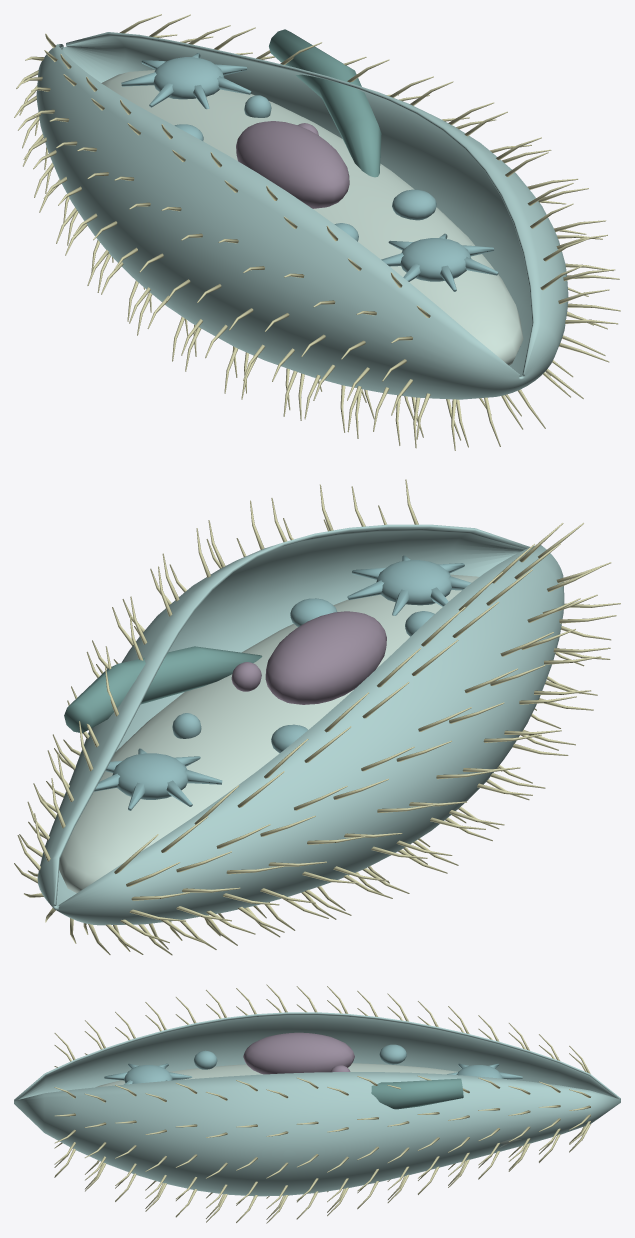
The model's file is Paramecium.fbx.
3 renders of one model, top to bottom at view 1: azimuth 30°, elevation 25°; view 2: azimuth 150°, elevation 25°; view 3: azimuth 270°, elevation 25°, orthographic. The views are drawn at different scales.
Parts seen in each view (by area): view 1: Paramecium_Pellicle, Paramecium_Cytoplasm, Paramecium_Cilia, Paramecium_Vacuoles, Paramecium_Nuclei, Paramecium_Oral_groove; view 2: Paramecium_Pellicle, Paramecium_Cilia, Paramecium_Cytoplasm, Paramecium_Vacuoles, Paramecium_Nuclei, Paramecium_Oral_groove; view 3: Paramecium_Pellicle, Paramecium_Cilia, Paramecium_Nuclei, Paramecium_Vacuoles, Paramecium_Oral_groove, Paramecium_Cytoplasm.
Part boxes in pixels (box(x1,y1,x2,y2)): Paramecium_Pellicle: box(36, 32, 568, 399); Paramecium_Cytoplasm: box(101, 70, 523, 365); Paramecium_Cilia: box(14, 14, 620, 450); Paramecium_Vacuoles: box(121, 53, 498, 291); Paramecium_Nuclei: box(236, 121, 349, 208); Paramecium_Oral_groove: box(269, 29, 381, 177); Paramecium_Pellicle: box(37, 524, 564, 925); Paramecium_Cilia: box(14, 479, 620, 955); Paramecium_Cytoplasm: box(59, 574, 478, 892); Paramecium_Vacuoles: box(94, 555, 471, 810); Paramecium_Nuclei: box(231, 611, 386, 704); Paramecium_Oral_groove: box(64, 646, 262, 733); Paramecium_Pellicle: box(14, 1012, 620, 1196); Paramecium_Cilia: box(54, 984, 590, 1223); Paramecium_Nuclei: box(243, 1032, 354, 1074); Paramecium_Vacuoles: box(104, 1044, 522, 1084); Paramecium_Oral_groove: box(371, 1078, 463, 1109); Paramecium_Cytoplasm: box(96, 1063, 521, 1147).
Bounding box in the file's own units: 0.518 × 0.3244 × 1.
